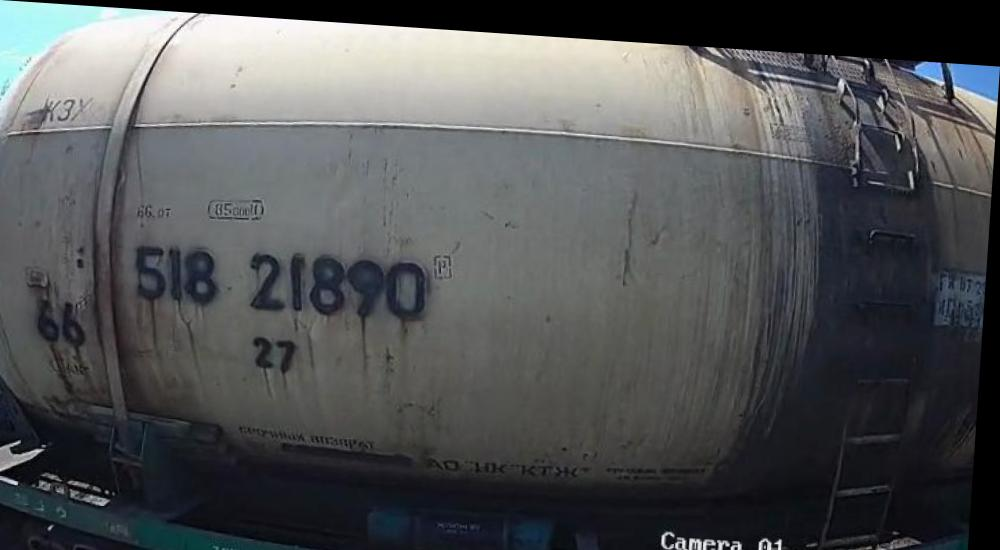Wagon-number: (131, 234, 438, 324)
